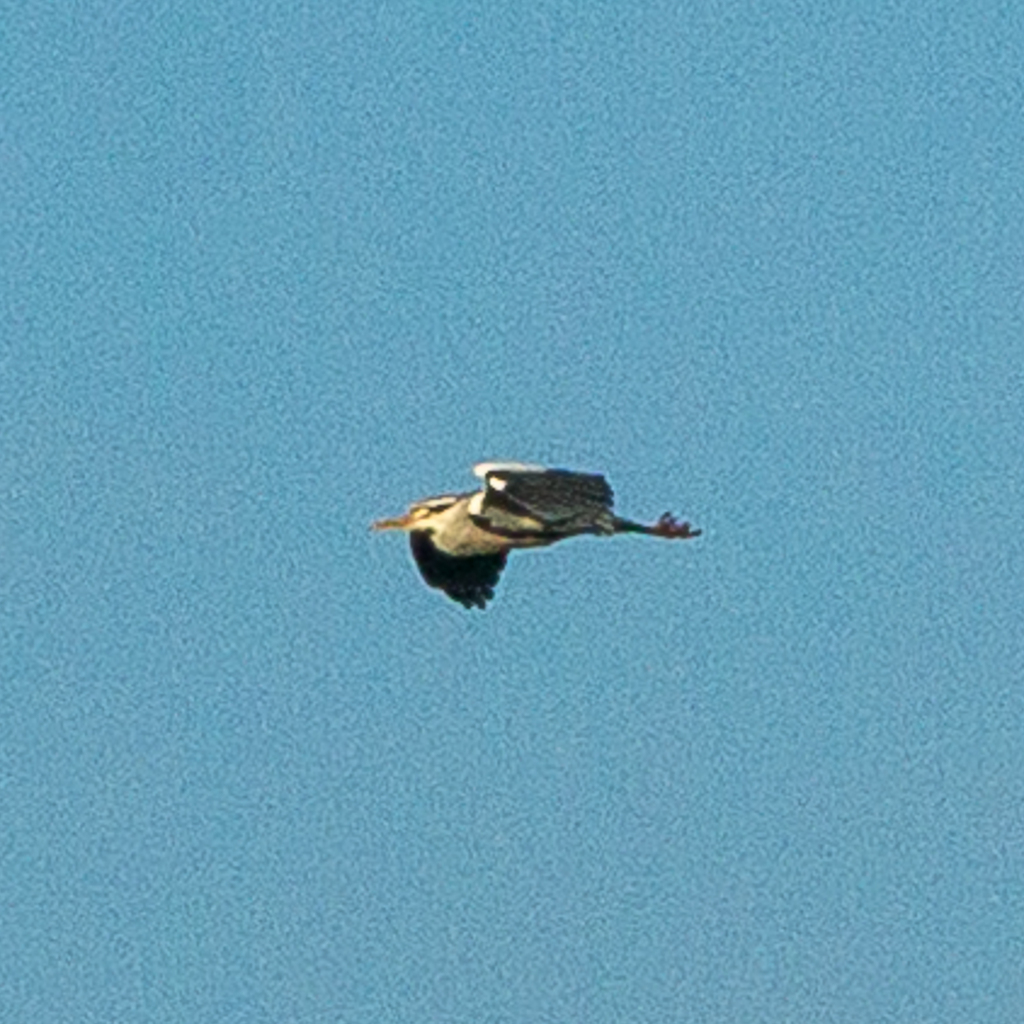heron: (369, 460, 711, 614)
